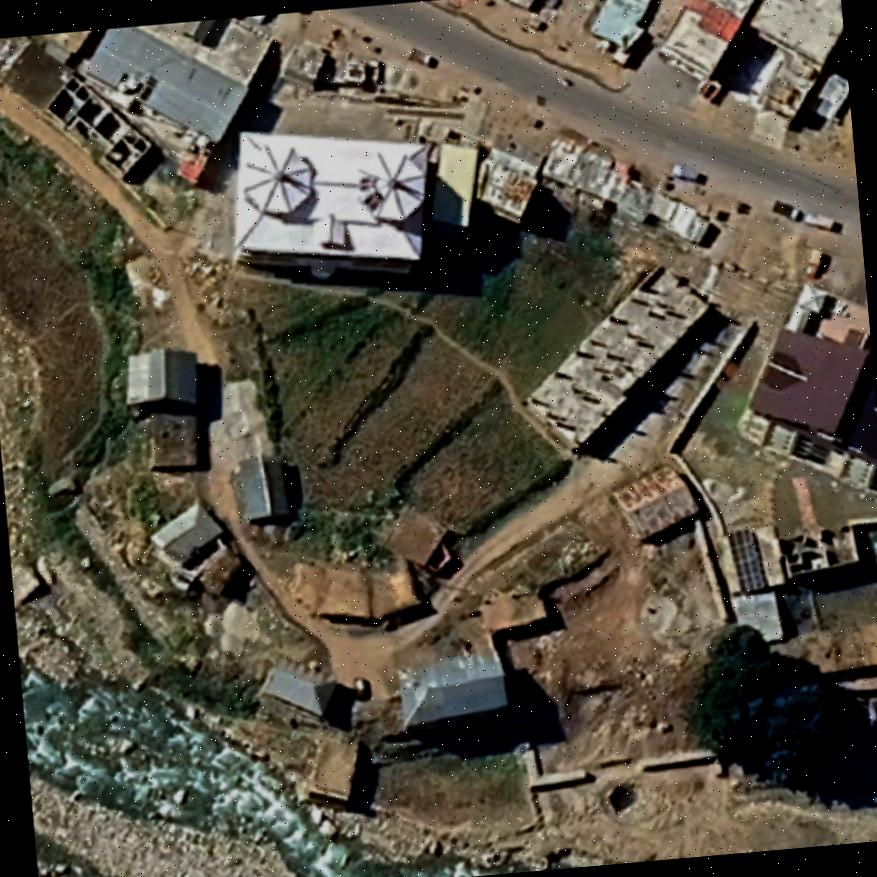Solarpanel: (722, 524, 770, 598)
